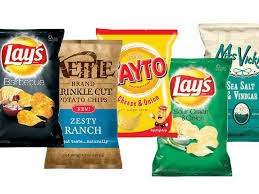lays-med: (1, 30, 68, 148)
lays-small: (171, 60, 233, 175)
